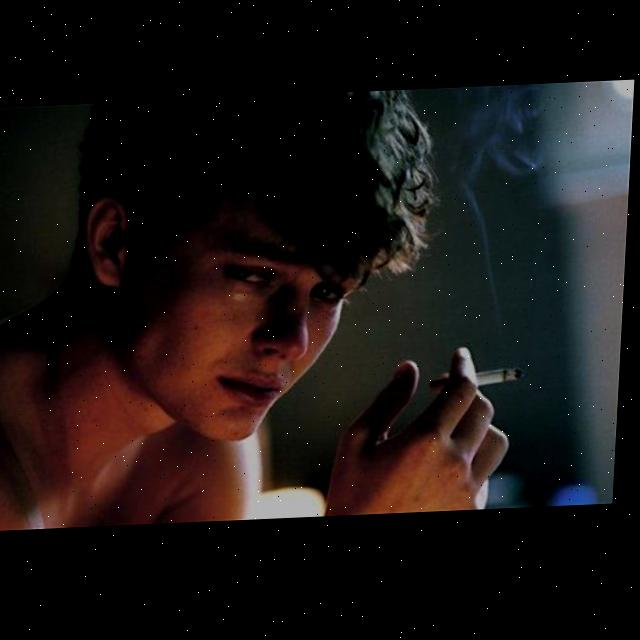cigarette: (433, 373, 529, 398)
